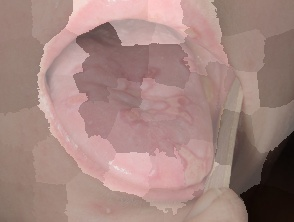SJS-TEN: (83, 24, 205, 155), (166, 139, 216, 186)
